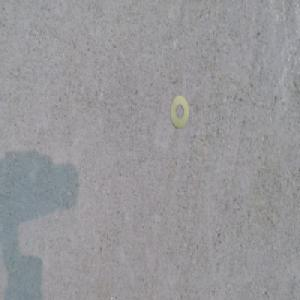Washer: (169, 95, 189, 127)
